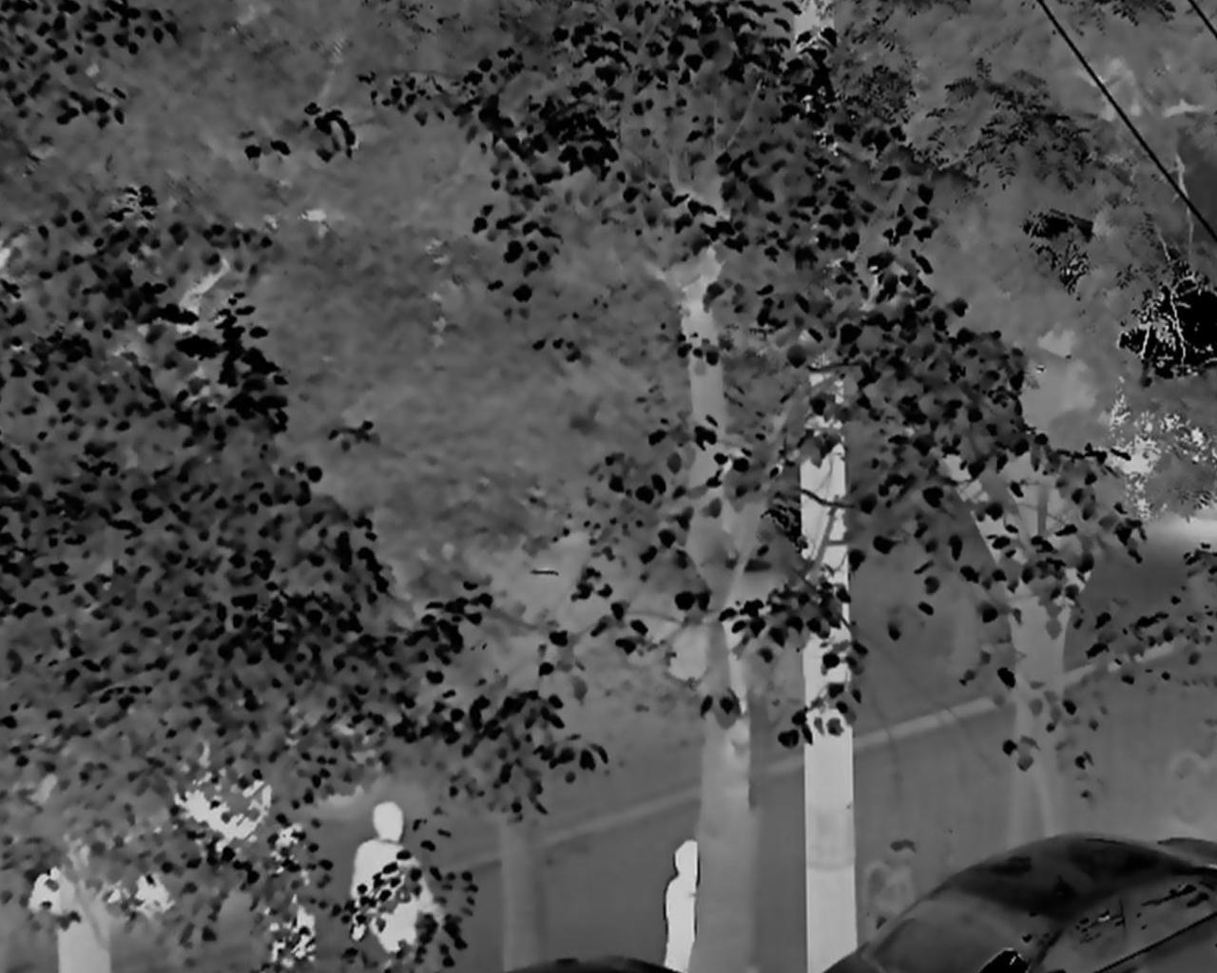person: (349, 804, 445, 973), (654, 838, 692, 973)
